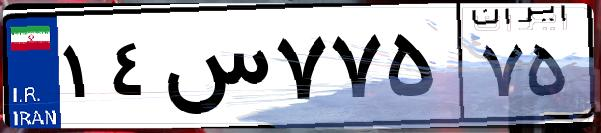1: (57, 26, 110, 100)
4: (110, 28, 158, 98)
5: (385, 28, 445, 110), (525, 38, 570, 115)
7: (270, 28, 330, 110), (330, 28, 385, 110), (475, 38, 525, 113)
س: (158, 20, 270, 120)
